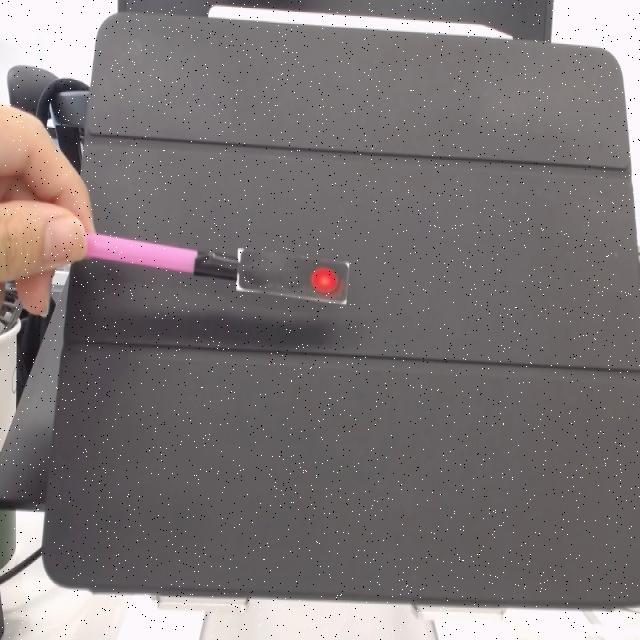traffic light: (233, 247, 352, 308)
